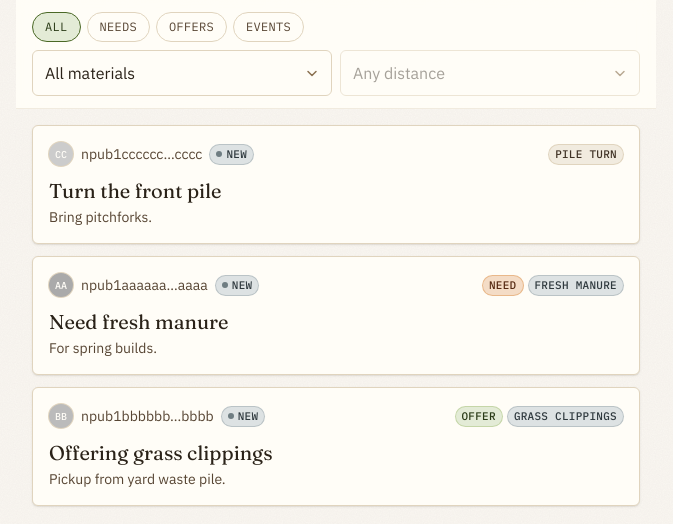
Test case: SPEC-018 Feed › kind filter = event keeps only the labor event and hides listings
The image size is (673, 524).
Expected: the heading "Turn the front pile" is shown, x1=49 y1=178 x2=222 y2=203
Step 1. Click the radio button labelled "Events" → (268, 27), box x1=233 y1=12 x2=304 y2=42
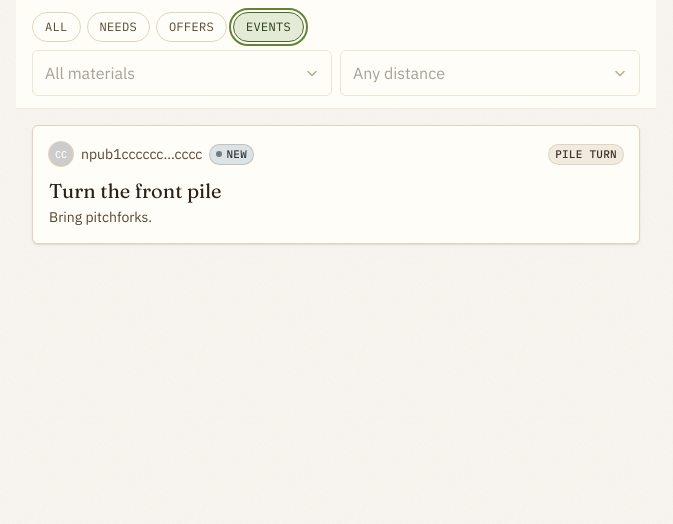
Expected: the heading "Turn the front pile" is shown, x1=49 y1=178 x2=222 y2=203
Expected: the text "Need Fresh manure" is gone
Expected: the heading "Offering grass clippings" is gone
